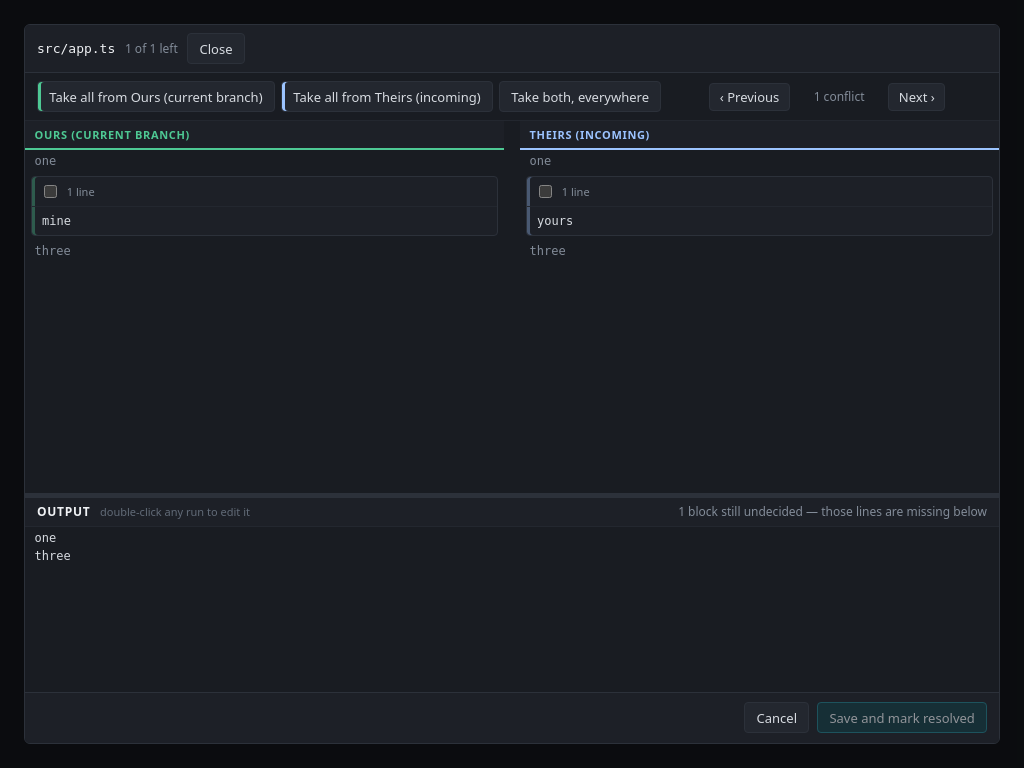
Scenario: choosing blocks › drops the block when a ticked side is unticked again
The width and height of the screenshot is (1024, 768).
Step 1. Click the 1st checkbox labelled "1 line" → (51, 192), box left=44, top=185, right=57, bottom=198
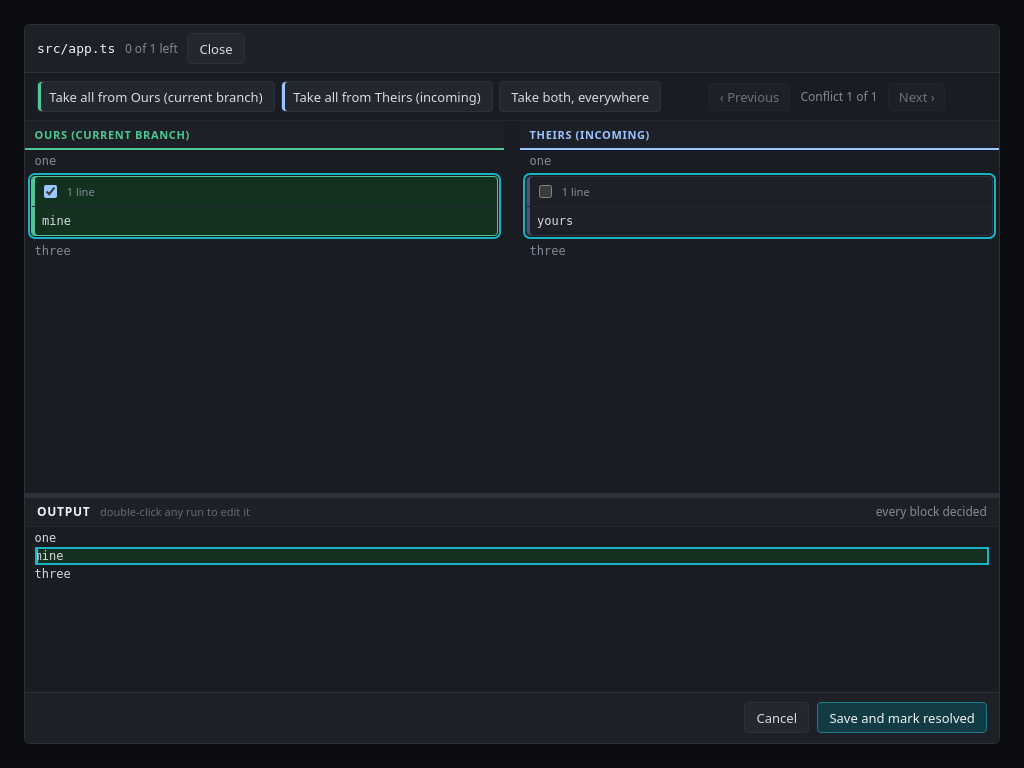
Expected: the element labelled "Output" shows "mine", left=35, top=549, right=64, bottom=563
Step 2. Click the 1st checkbox labelled "1 line" → (51, 192), box left=44, top=185, right=57, bottom=198
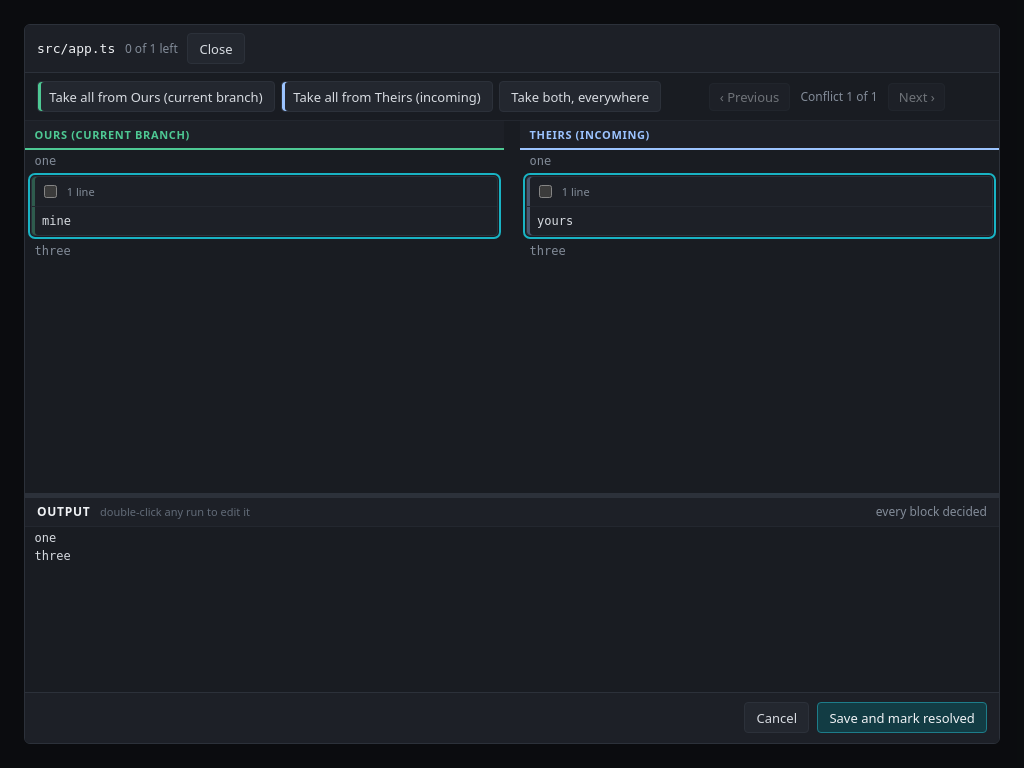
Expected: the button "Save and mark resolved" is enabled, left=817, top=702, right=987, bottom=733
Expected: the field labelled "Output" no longer shows "mine"
